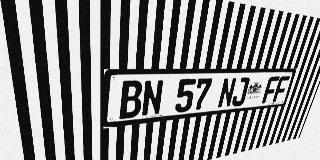5: (175, 79, 196, 113)
7: (192, 78, 213, 111)
B: (119, 80, 143, 119)
F: (262, 76, 280, 103), (272, 76, 290, 102)
J: (231, 77, 250, 107)
N: (141, 80, 164, 117), (217, 77, 237, 108)
